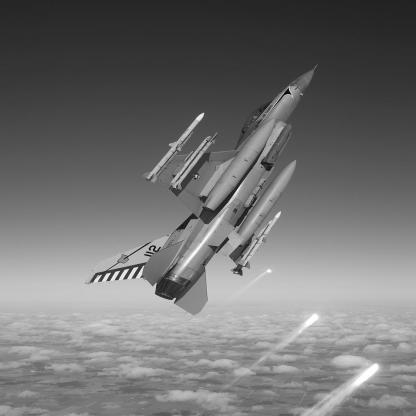F16: (86, 63, 321, 319)
